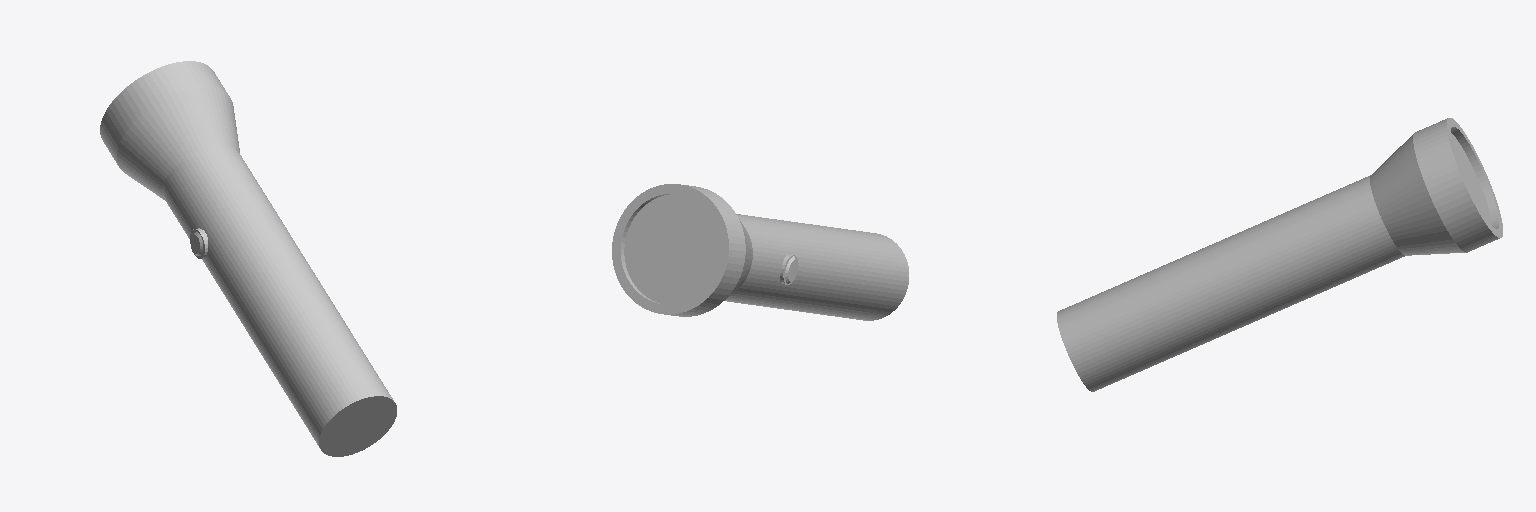
The model's file is flashlight.obj.
3 renders of one model, left to right at view 1: azimuth 30°, elevation 25°; view 2: azimuth 150°, elevation 25°; view 3: azimuth 270°, elevation 25°, orthographic.
Visible parts, largest first — view 1: Cylinder; view 2: Cylinder; view 3: Cylinder.
Boxes of the visible parts, box(x1,y1,x2,y2) form: Cylinder: box(100, 61, 396, 456); Cylinder: box(612, 184, 908, 320); Cylinder: box(1057, 118, 1502, 391).
Size of the model in its own units: 2.98 by 6.6 by 10.15.